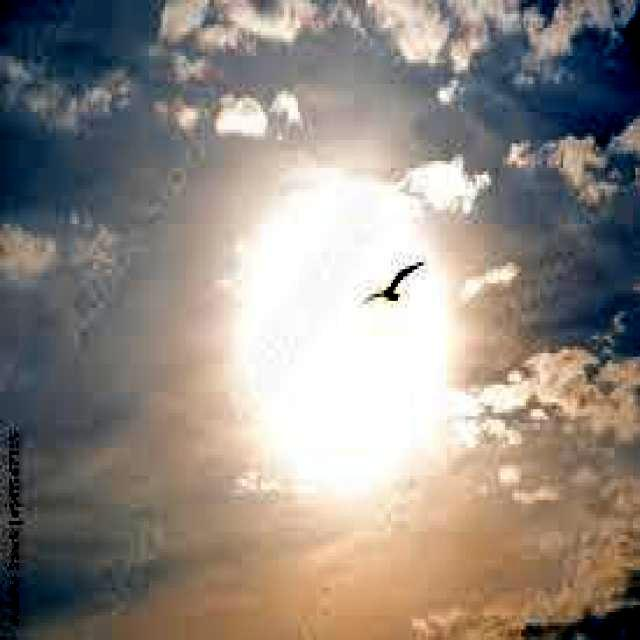bird: (364, 259, 428, 309)
